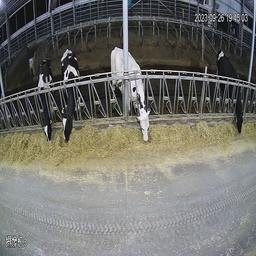cow: (111, 44, 152, 140), (217, 47, 247, 136), (60, 52, 81, 144), (37, 60, 54, 143)
